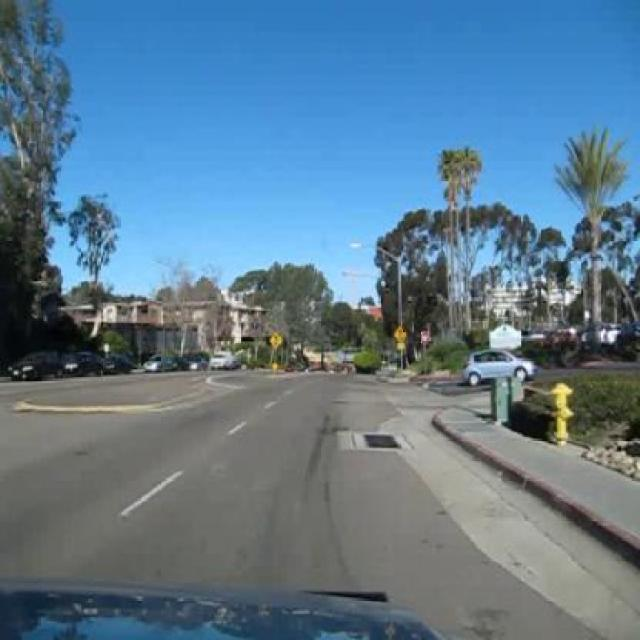signalAhead: (392, 324, 408, 342), (268, 331, 283, 349)
stop: (420, 329, 429, 346)
